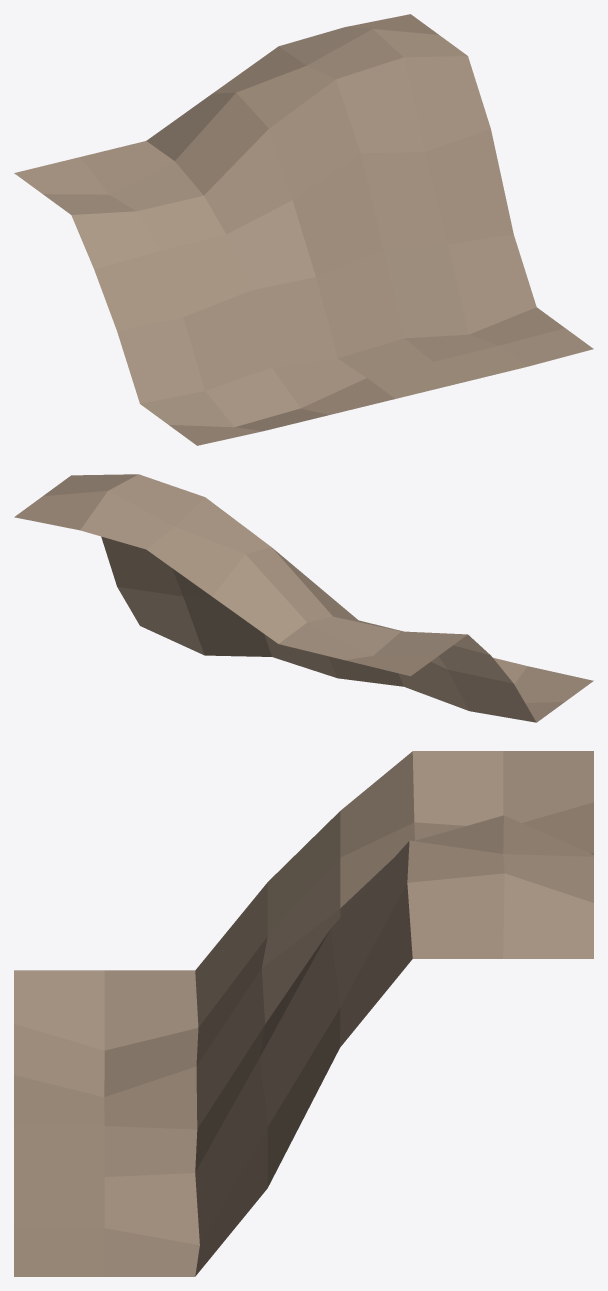
Rendered from Groborchik_RiverBank_Trans_Down3-2.fbx.
3 renders of one model, top to bottom at view 1: azimuth 30°, elevation 25°; view 2: azimuth 150°, elevation 25°; view 3: azimuth 270°, elevation 25°, orthographic. The views are drawn at different scales.
Parts seen in each view (by area): view 1: Trans_Down3-2; view 2: Trans_Down3-2; view 3: Trans_Down3-2.
Part boxes in pixels (<box>): Trans_Down3-2: <box>14,14,593,445</box>; Trans_Down3-2: <box>14,474,593,722</box>; Trans_Down3-2: <box>14,751,593,1276</box>.
Size of the model in its own units: 1000 by 581 by 800.
